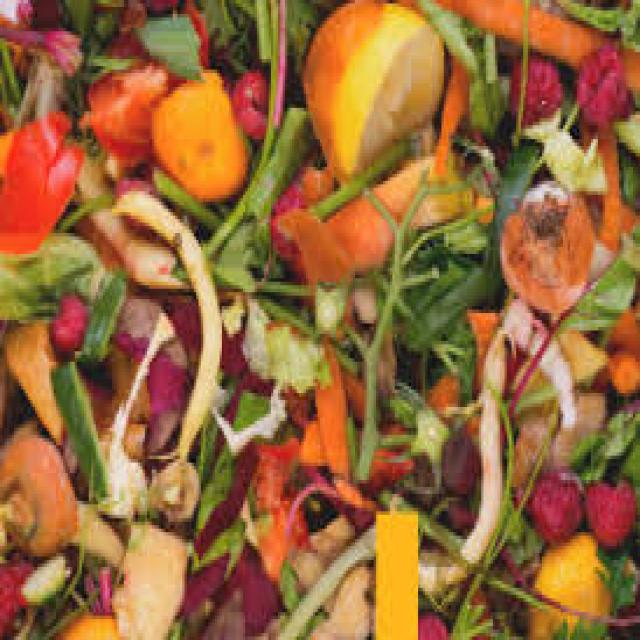Organik: (3, 4, 640, 640), (289, 4, 483, 179)
